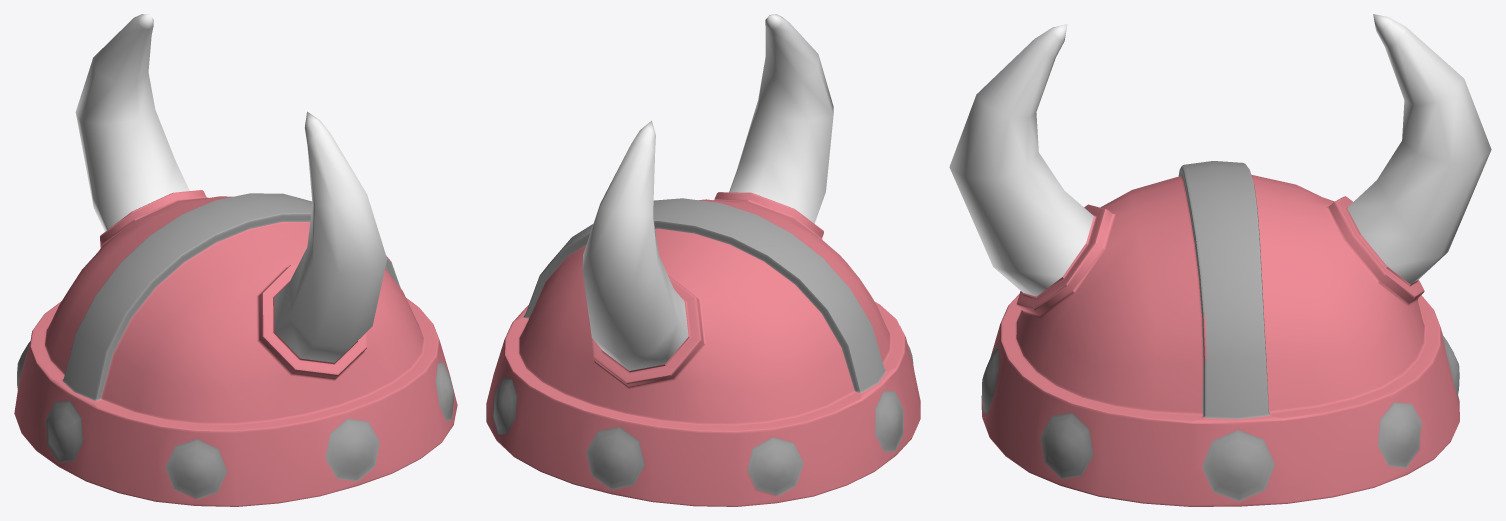
File: VikingHelmUVDOne.fbx
3 views of the same model, side by side, from view 1: azimuth 30°, elevation 25°; view 2: azimuth 150°, elevation 25°; view 3: azimuth 270°, elevation 25° (orthographic). The views are drawn at different scales.
Visible parts, largest first — view 1: Helmet_Viking; view 2: Helmet_Viking; view 3: Helmet_Viking.
Boxes of the visible parts, <box> form: Helmet_Viking: <box>14,14,457,506</box>; Helmet_Viking: <box>486,14,920,506</box>; Helmet_Viking: <box>949,14,1491,506</box>.
Bounding box in the file's own units: 41.23 × 37.37 × 46.71.
